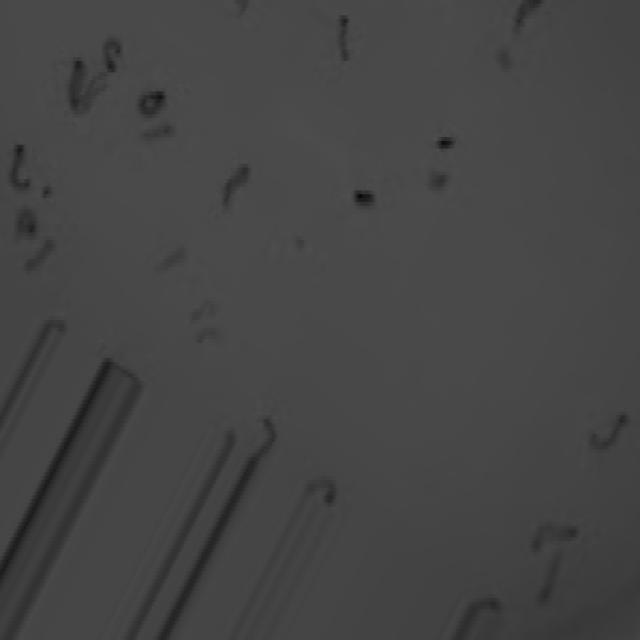larvas: (591, 411, 629, 454), (538, 549, 562, 608), (534, 523, 578, 549), (26, 234, 56, 272), (514, 0, 542, 37), (222, 165, 250, 199), (12, 147, 32, 190), (156, 250, 186, 276), (101, 36, 122, 70), (310, 479, 339, 503), (141, 90, 165, 118), (85, 71, 102, 107), (263, 411, 276, 457), (339, 12, 350, 66), (71, 56, 82, 110), (18, 208, 37, 233), (144, 124, 173, 140), (193, 297, 214, 319), (195, 331, 223, 345), (471, 599, 501, 611)
